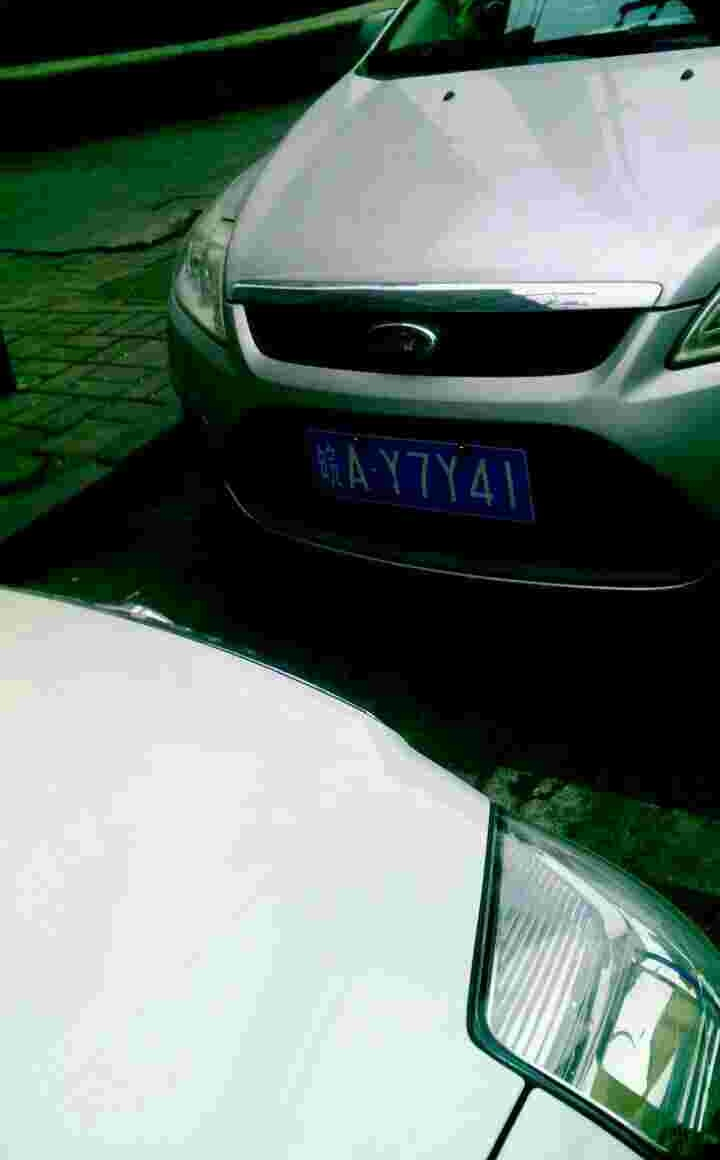license_plate: (298, 426, 531, 517)
